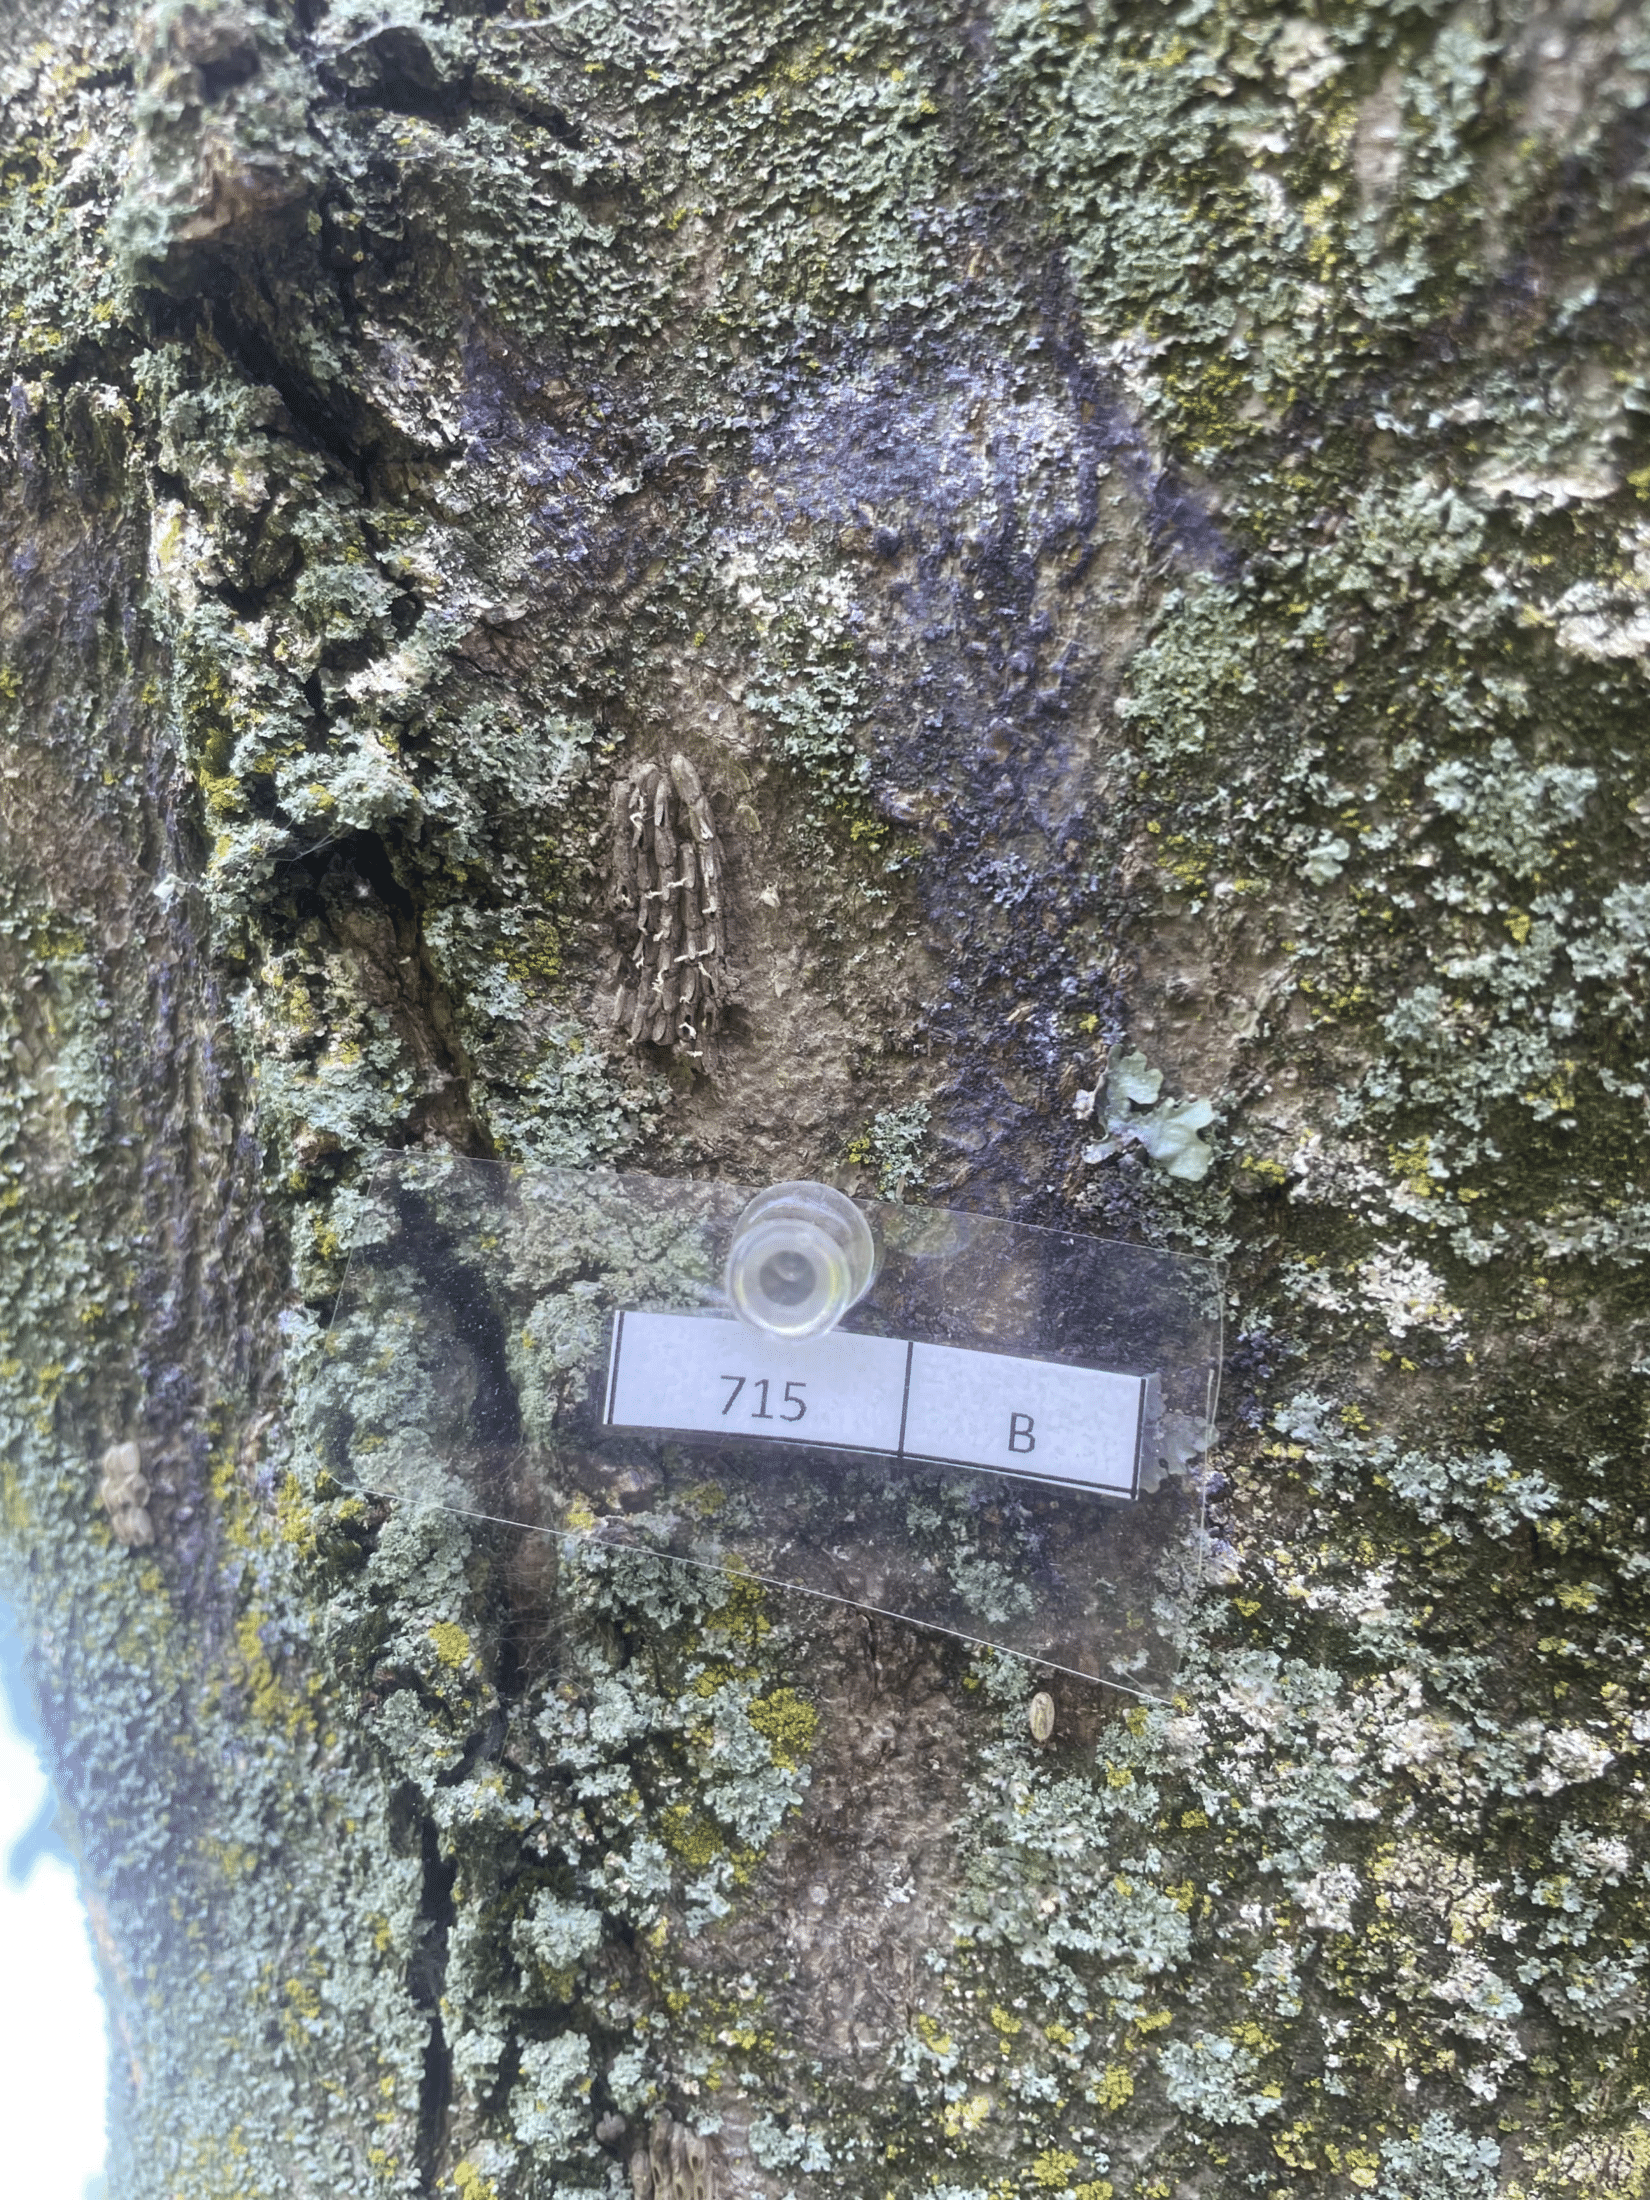egg masses: (593, 755, 719, 1062)
